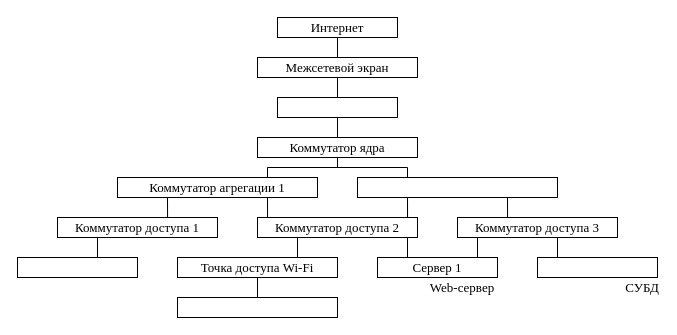
Image size: 677x335. Some labels were removed from this diagram. The shapes that lost their labels are listed below. From the top down, each one's centre as x and y in pixels, then its label:
(x=337, y=107): Маршрутизатор
(x=457, y=187): Коммутатор агрегации 2
(x=77, y=267): Рабочие станции
(x=597, y=267): Сервер 2
(x=257, y=307): Беспроводные устройства
